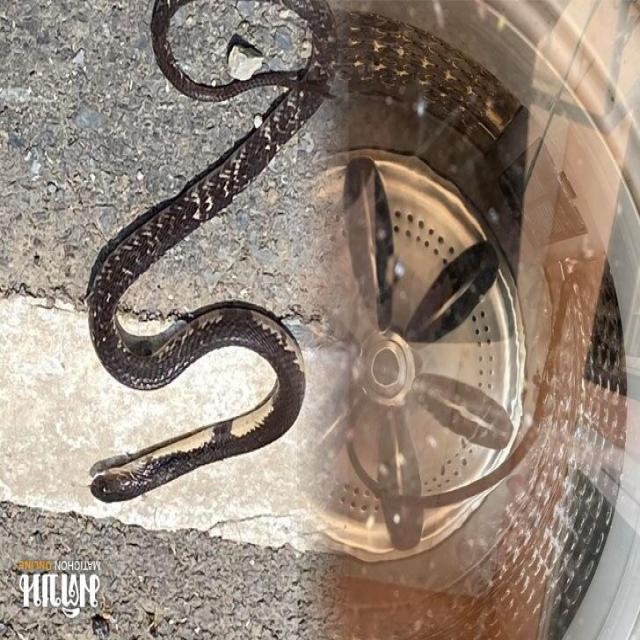Venomous: (92, 424, 225, 511)
